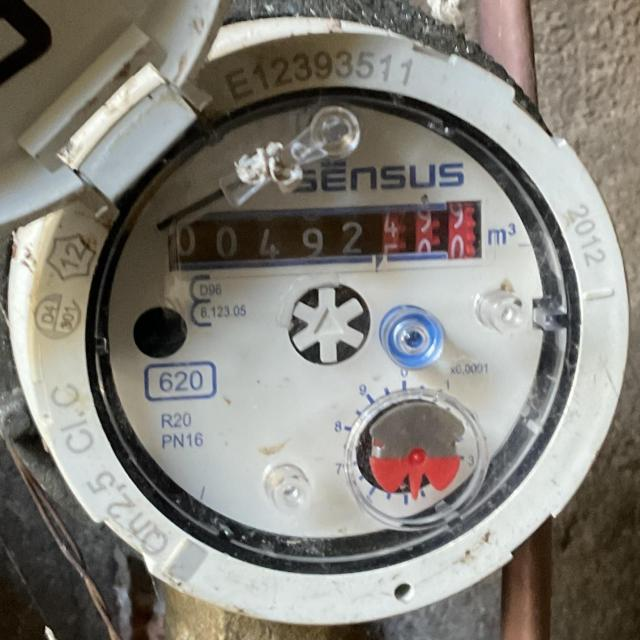gaz_meter: (92, 82, 568, 556)
indication: (166, 201, 482, 272)
